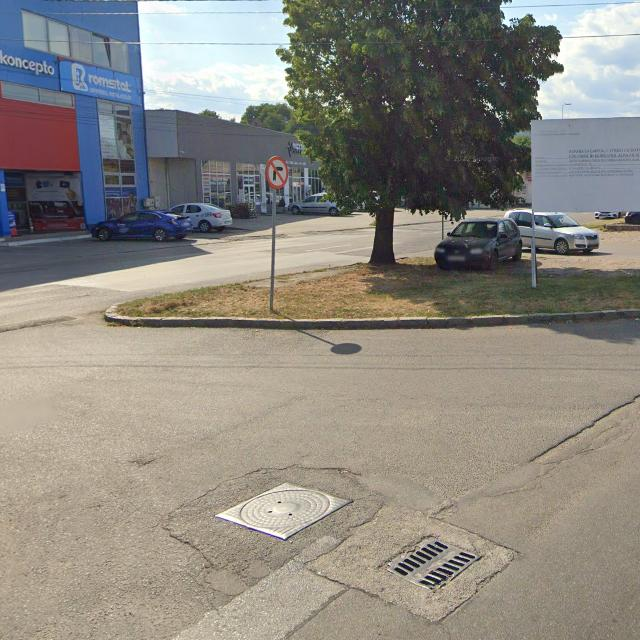forb_right: (266, 156, 288, 188)
